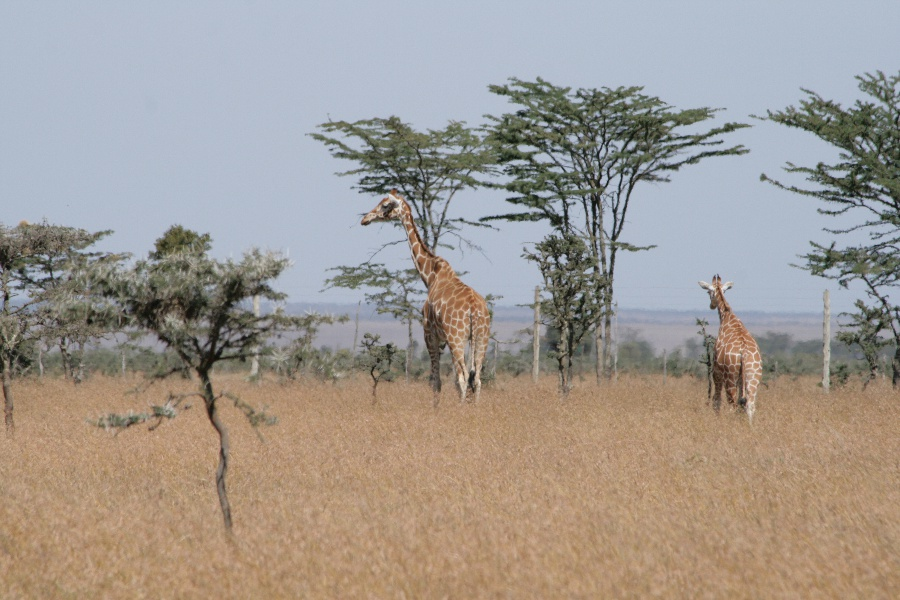giraffe: (360, 180, 494, 409), (694, 264, 768, 430)
